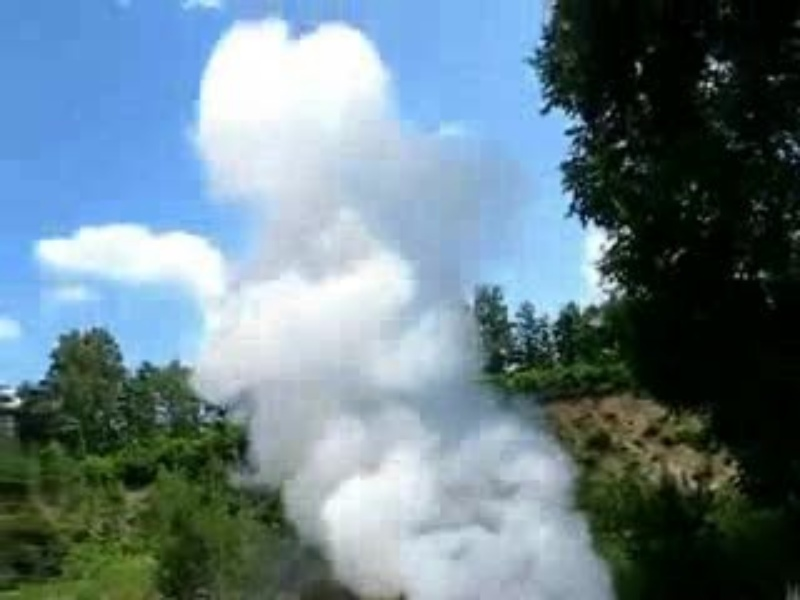smoke: (197, 266, 607, 594)
